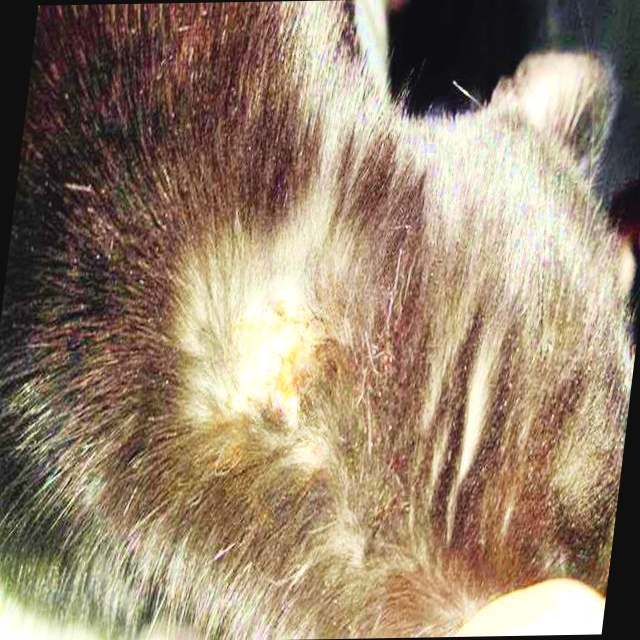ringworm: (229, 289, 338, 407)
